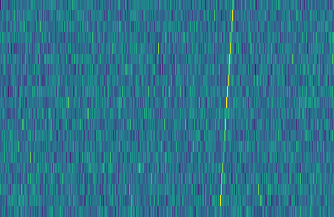signal: (216, 0, 239, 217)
